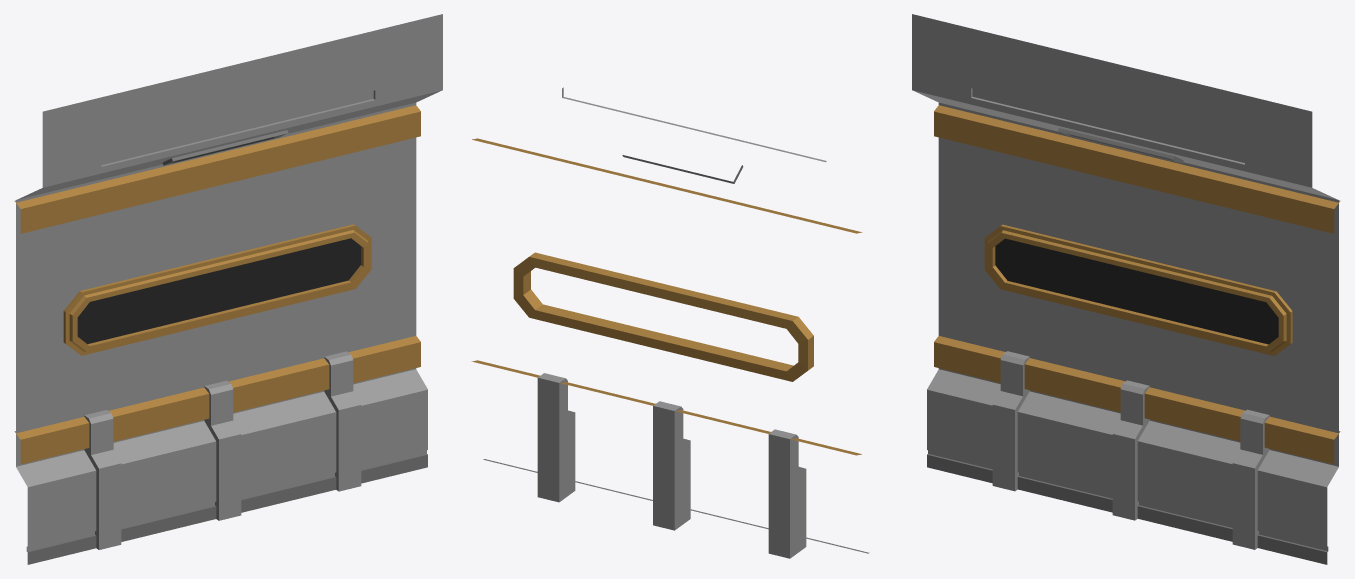
File: LongWindow_Wall_SideB.glb
3 renders of one model, left to right at view 1: azimuth 30°, elevation 25°; view 2: azimuth 150°, elevation 25°; view 3: azimuth 330°, elevation 25°, orthographic. The views are drawn at different scales.
Parts seen in each view (by area): view 1: LongWindow_Wall_SideB_Plane.041; view 2: LongWindow_Wall_SideB_Plane.041; view 3: LongWindow_Wall_SideB_Plane.041.
Part boxes in pixels (bbox=[...]): LongWindow_Wall_SideB_Plane.041: bbox=[14, 14, 442, 564]; LongWindow_Wall_SideB_Plane.041: bbox=[471, 87, 869, 558]; LongWindow_Wall_SideB_Plane.041: bbox=[912, 14, 1340, 564].
Bounding box in the file's own units: 4 × 4.43 × 0.5355.
